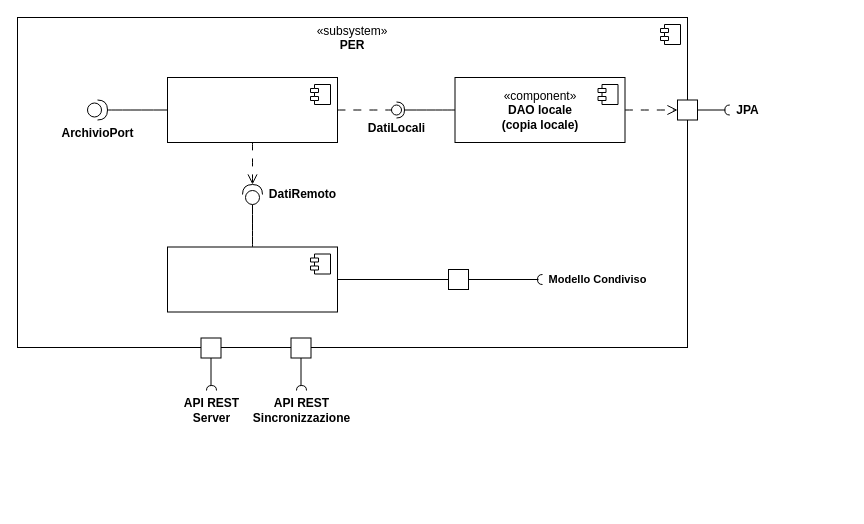
Image size: 864x524. Some labels were removed from this diagram. The centre of each missing label's shape, as x and y in pixels:
«component» DAO remoto (Adapter REST): point (252, 279)
«component» Service (gestore di sorgente): point (252, 109)
